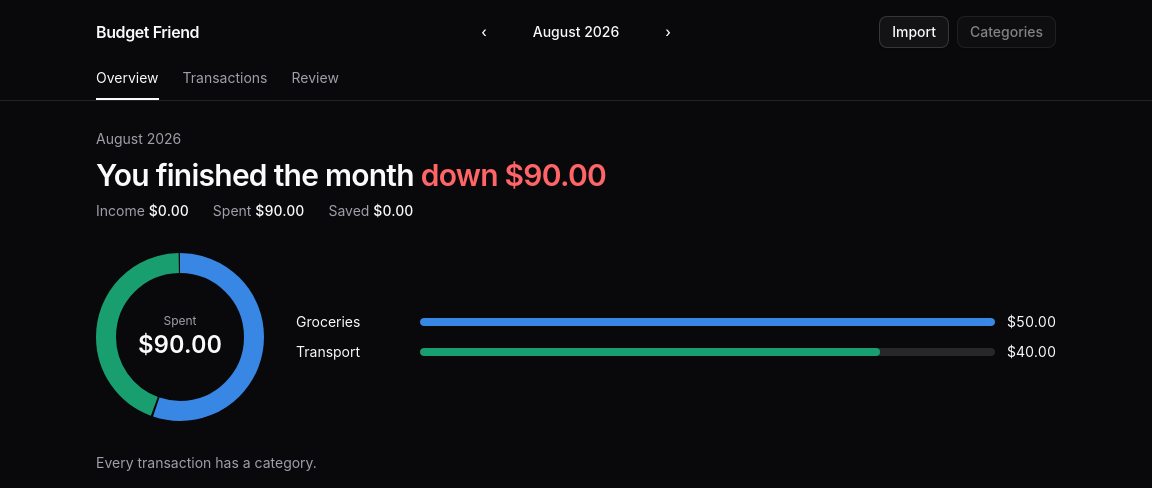
a category keeps its colour when the others with spending change
Expected: the element named "spending by category" is shown, top-left (96, 253), bottom-right (264, 421)
Click the button named "previous month". click: (484, 32)
box: top-left (468, 16), bottom-right (500, 48)
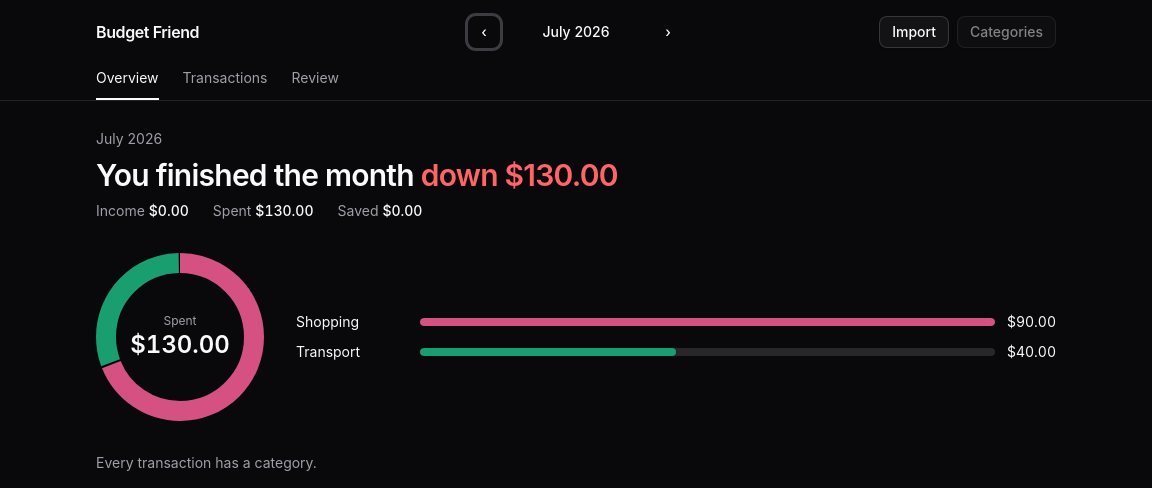
Now the list item "Shopping $90.00" is shown, box top-left (296, 312), bottom-right (1056, 332)
